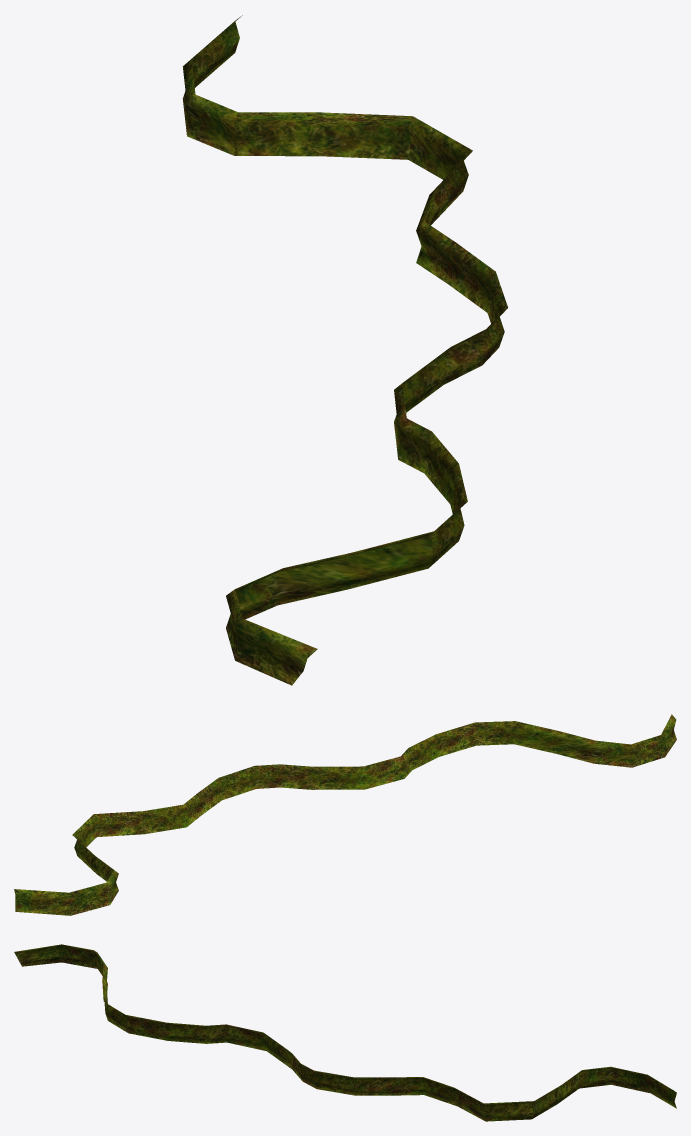
The model's file is TROLLHOLE02_RM_PSURF198.fbx.
3 views of the same model, one above another, from view 1: azimuth 30°, elevation 25°; view 2: azimuth 150°, elevation 25°; view 3: azimuth 270°, elevation 25° (orthographic). The views are drawn at different scales.
Parts seen in each view (by area): view 1: TROLLHOLE02_RM_PSURF198; view 2: TROLLHOLE02_RM_PSURF198; view 3: TROLLHOLE02_RM_PSURF198.
Part boxes in pixels (bbox=[...]): TROLLHOLE02_RM_PSURF198: bbox=[182, 15, 507, 685]; TROLLHOLE02_RM_PSURF198: bbox=[14, 714, 676, 915]; TROLLHOLE02_RM_PSURF198: bbox=[14, 944, 676, 1121].
Bounding box in the file's own units: 289326 × 19709 × 503344.
1 material, 1 textured.
